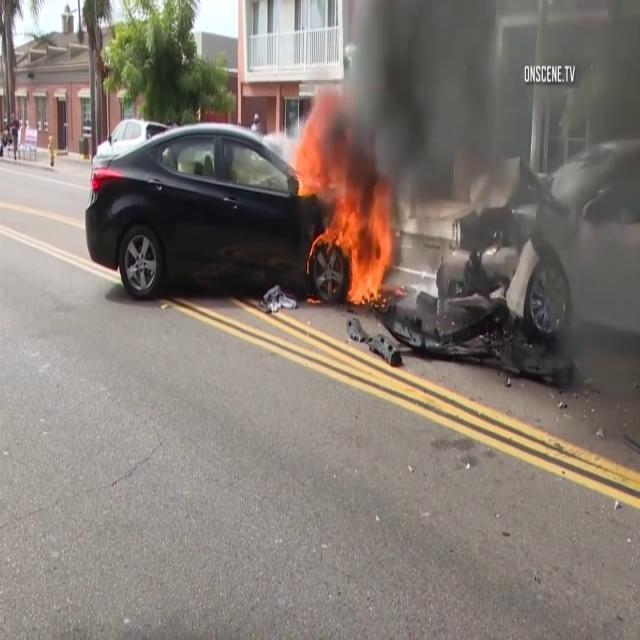Fire: (291, 124, 400, 314)
Smoke: (532, 9, 640, 454), (321, 0, 509, 200)
